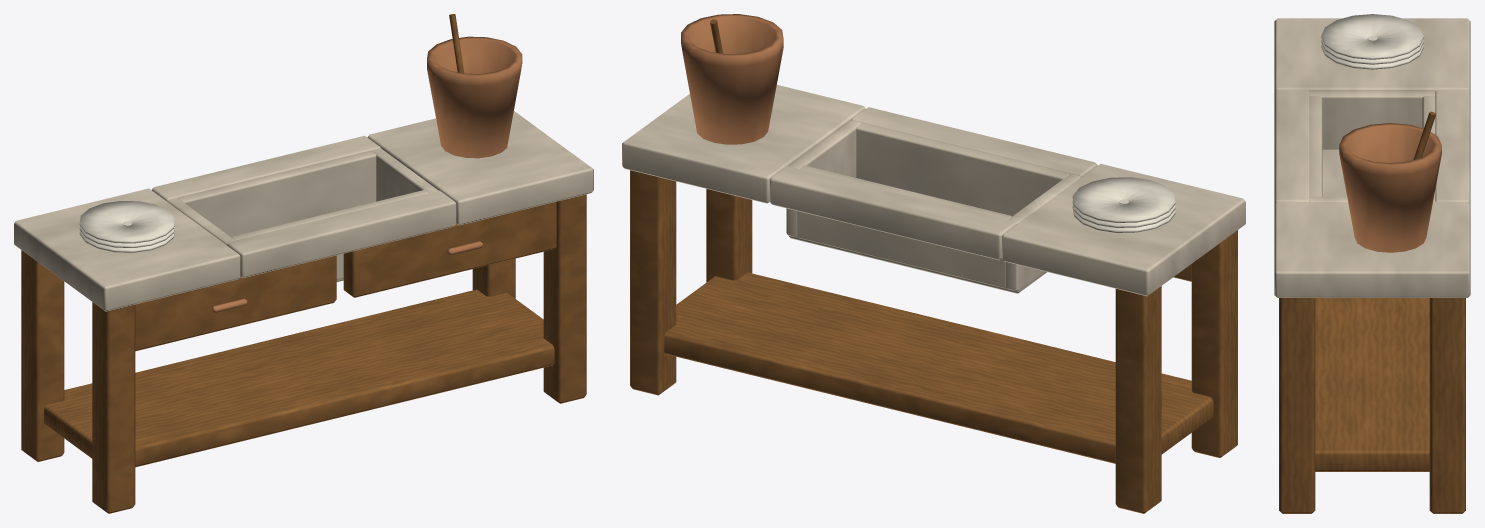
Rendered from Furn_KitchenSinkCounter.fbx.
3 renders of one model, left to right at view 1: azimuth 30°, elevation 25°; view 2: azimuth 150°, elevation 25°; view 3: azimuth 270°, elevation 25°, orthographic. The views are drawn at different scales.
Parts seen in each view (by area): view 1: Furn_KitchenSinkCounter_Mesh; view 2: Furn_KitchenSinkCounter_Mesh; view 3: Furn_KitchenSinkCounter_Mesh.
Part boxes in pixels (x1,y1,x2,y2): Furn_KitchenSinkCounter_Mesh: [14, 14, 593, 513]; Furn_KitchenSinkCounter_Mesh: [622, 14, 1245, 513]; Furn_KitchenSinkCounter_Mesh: [1274, 14, 1470, 513].
Bounding box in the file's own units: 2 × 1.35 × 0.65.
